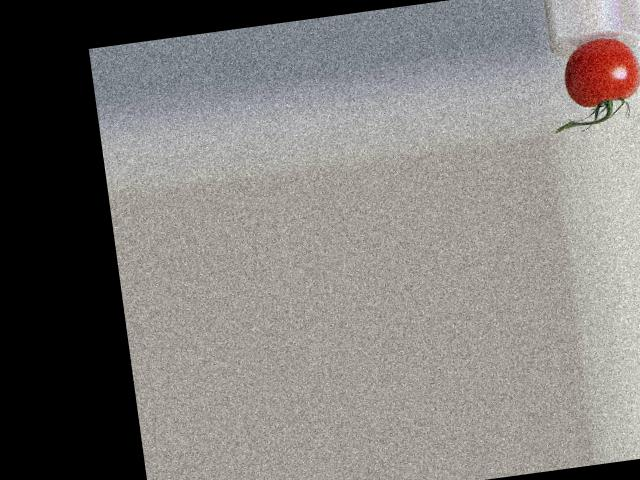tomato: (559, 34, 640, 109)
